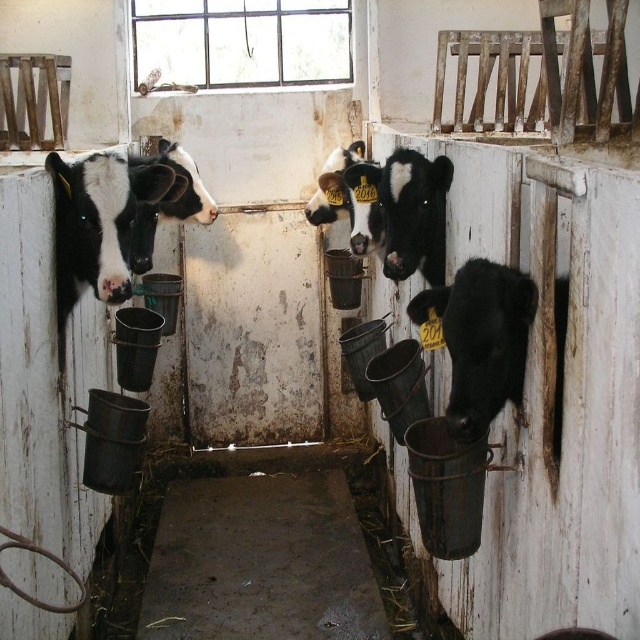Cattle: (45, 139, 569, 443)
